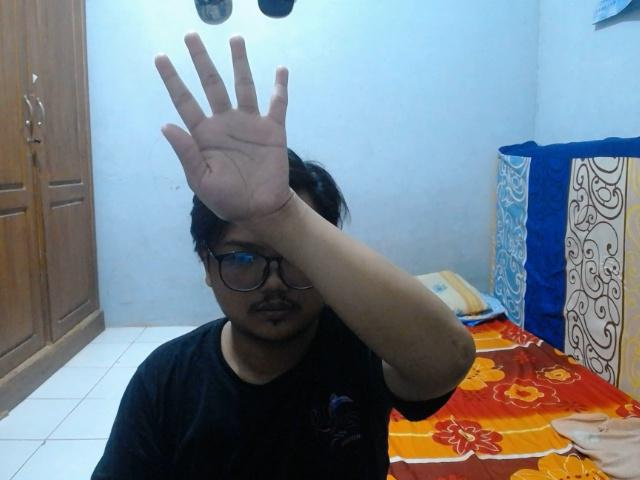Release: (149, 27, 294, 228)
